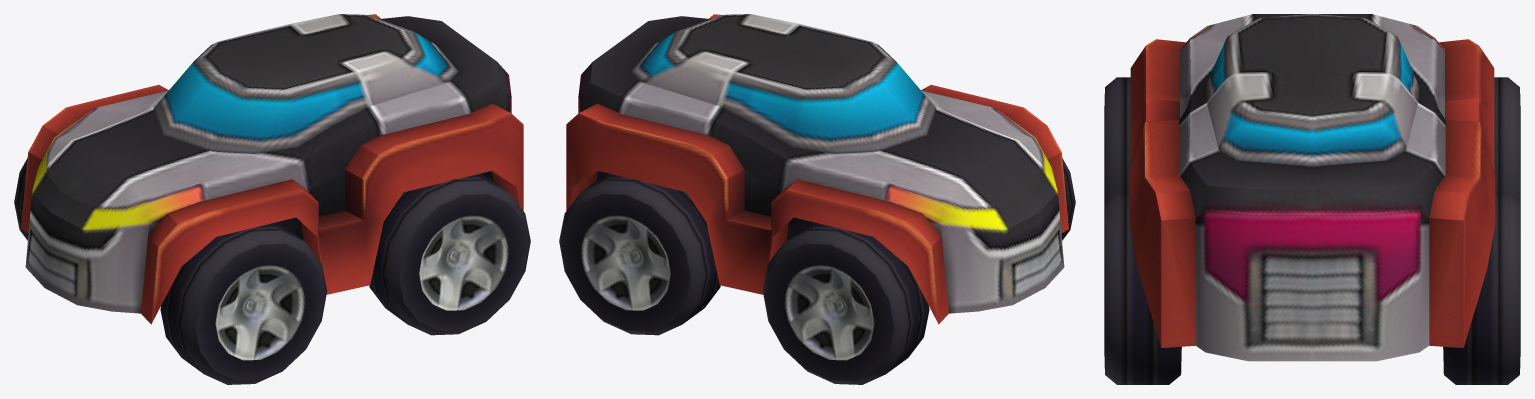
3 views of the same model, side by side, from view 1: azimuth 30°, elevation 25°; view 2: azimuth 150°, elevation 25°; view 3: azimuth 270°, elevation 25° (orthographic). The views are drawn at different scales.
Parts seen in each view (by area): view 1: body, wheel01, wheel02, wheel03; view 2: body, wheel03, wheel04, wheel01; view 3: body, wheel04, wheel02, wheel03, wheel01.
Boxes of the visible parts, box(x1,y1,x2,y2) form: body: box(21, 14, 523, 324); wheel01: box(160, 222, 327, 384); wheel02: box(369, 173, 530, 335); wheel03: box(14, 158, 28, 240); body: box(566, 14, 1068, 324); wheel03: box(762, 222, 929, 384); wheel04: box(559, 173, 720, 335); wheel01: box(1061, 158, 1075, 240); body: box(1129, 14, 1495, 361); wheel04: box(1443, 192, 1520, 384); wheel02: box(1104, 192, 1181, 384); wheel03: box(1494, 77, 1520, 220); wheel01: box(1104, 77, 1130, 220).
Size of the model in its own units: 0.5393 by 0.3846 by 0.279.
Materials: 1 (1 with a texture image).
